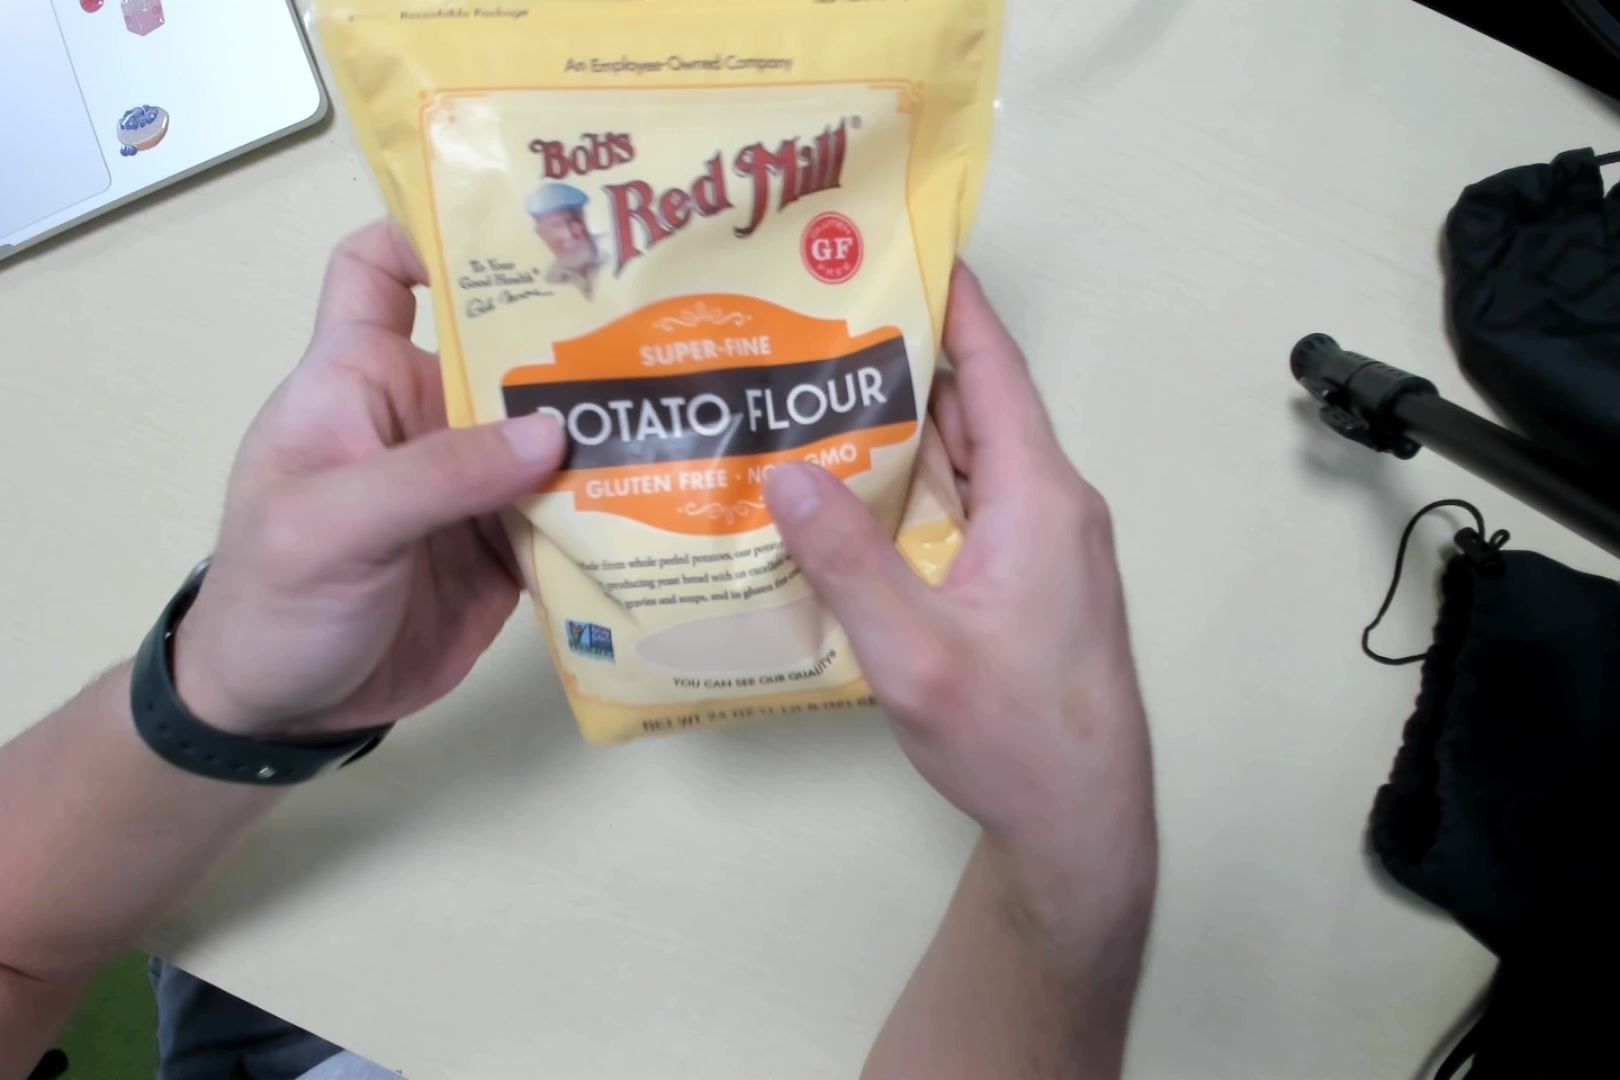OtherBakingNeeds_600-699g_NonHalal_NonHealthy: (313, 4, 996, 749)
